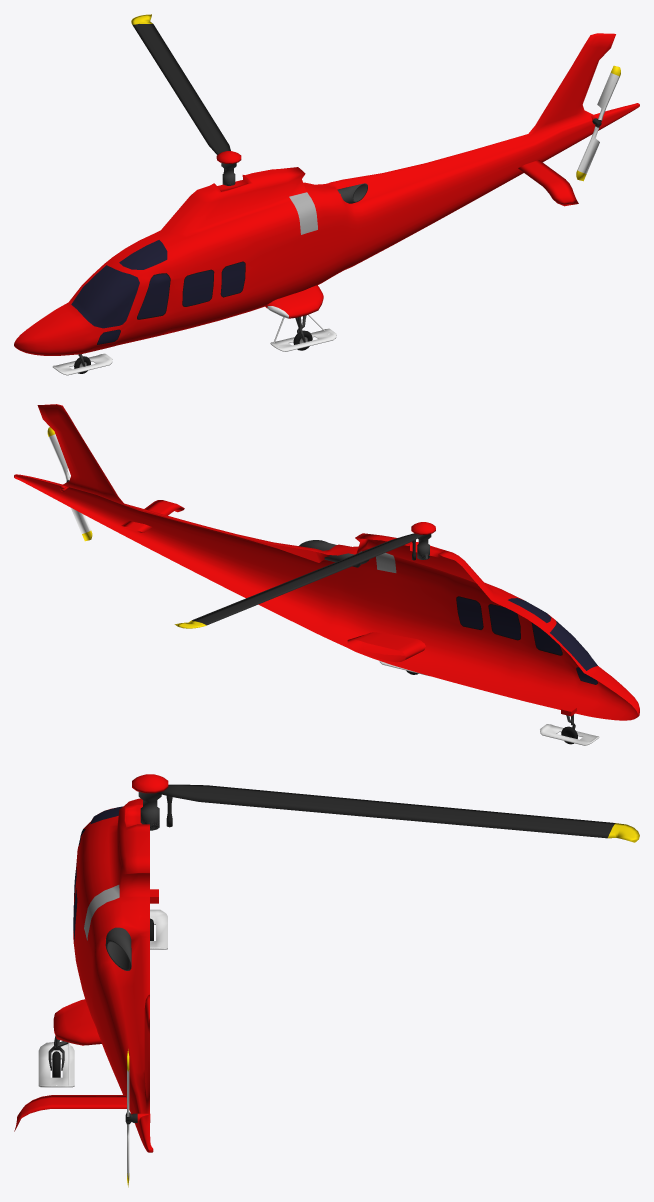
The model's file is helicopter_vip_pro_no3.gltf.
The picture shows the model from 3 angles, top to bottom: view 1: azimuth 30°, elevation 25°; view 2: azimuth 150°, elevation 25°; view 3: azimuth 270°, elevation 25°; orthographic projection. The views are drawn at different scales.
Visible parts, largest first — view 1: Cube, Cylinder.003, Cube.001, Cube.004, Cylinder.002, Cube.007, Cube.006, Cylinder.001; view 2: Cube, Cylinder.003, Cube.004, Cylinder.002, Cube.001, Cylinder.001, Cube.006; view 3: Cube, Cylinder.003, Cube.004, Cube.001, Cylinder.001, Cube.007, Cylinder, Cube.006.
Boxes of the visible parts, <box> form: Cube: <box>14,33,639,355</box>; Cylinder.003: <box>131,14,230,154</box>; Cube.001: <box>518,160,578,206</box>; Cube.004: <box>265,285,323,318</box>; Cylinder.002: <box>576,65,620,181</box>; Cube.007: <box>270,328,336,351</box>; Cube.006: <box>52,353,112,375</box>; Cylinder.001: <box>216,151,241,185</box>; Cube: <box>14,404,639,720</box>; Cylinder.003: <box>174,533,423,628</box>; Cube.004: <box>347,632,425,662</box>; Cylinder.002: <box>47,427,92,541</box>; Cube.001: <box>121,500,184,532</box>; Cylinder.001: <box>411,522,435,559</box>; Cube.006: <box>540,724,599,745</box>; Cube: <box>73,798,153,1152</box>; Cylinder.003: <box>157,784,639,842</box>; Cube.004: <box>53,999,101,1045</box>; Cube.001: <box>14,1095,126,1131</box>; Cylinder.001: <box>132,774,168,830</box>; Cube.007: <box>38,1042,74,1087</box>; Cylinder: <box>105,927,131,970</box>; Cube.006: <box>150,909,167,949</box>.
Size of what is drawn, in the model's own units: 9.33 by 3.06 by 5.45.
